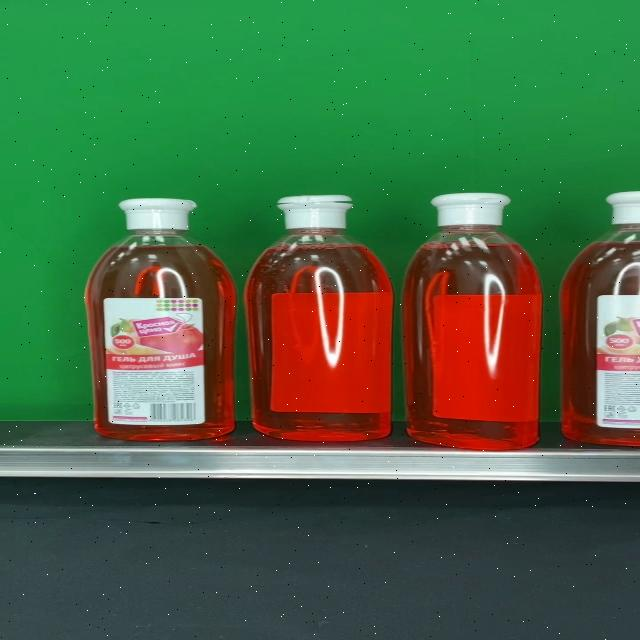Bottle: (85, 197, 237, 442), (243, 194, 393, 442), (404, 193, 542, 450)
Cap: (428, 194, 511, 226), (277, 195, 354, 229), (120, 198, 198, 230)
